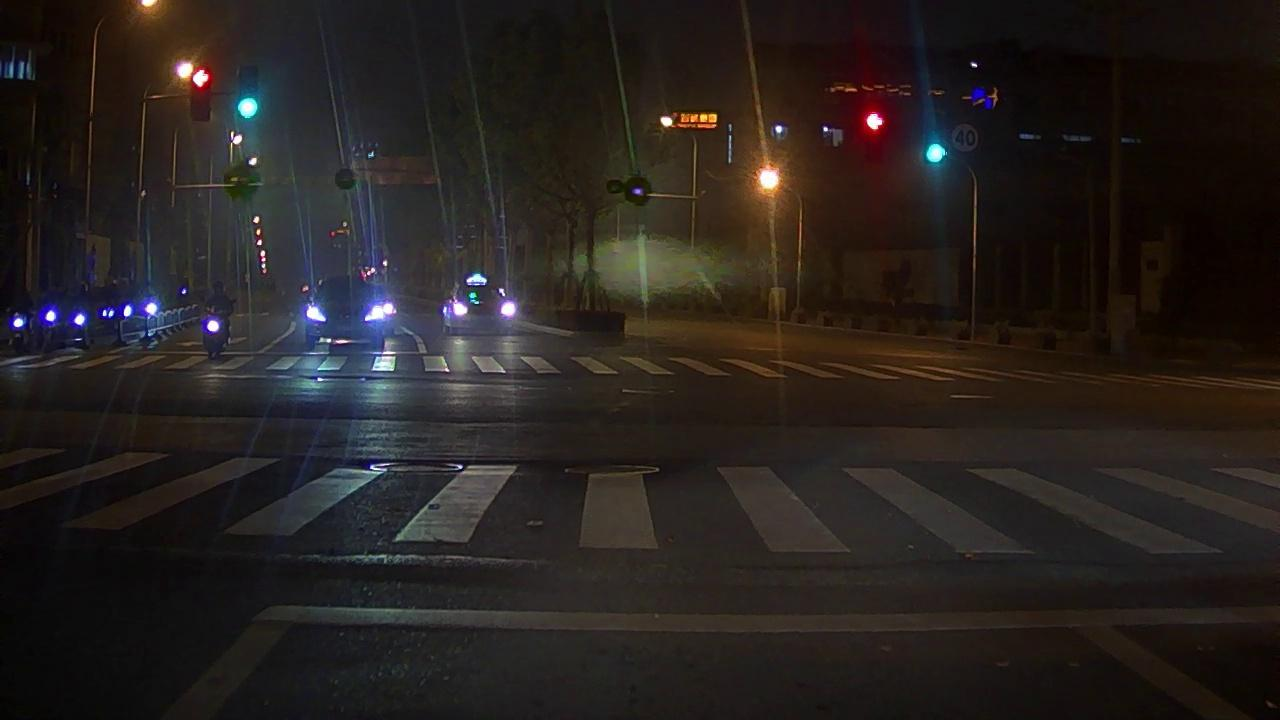traffic_light: (239, 68, 259, 124), (192, 65, 212, 119), (923, 142, 946, 164), (866, 110, 884, 132)
